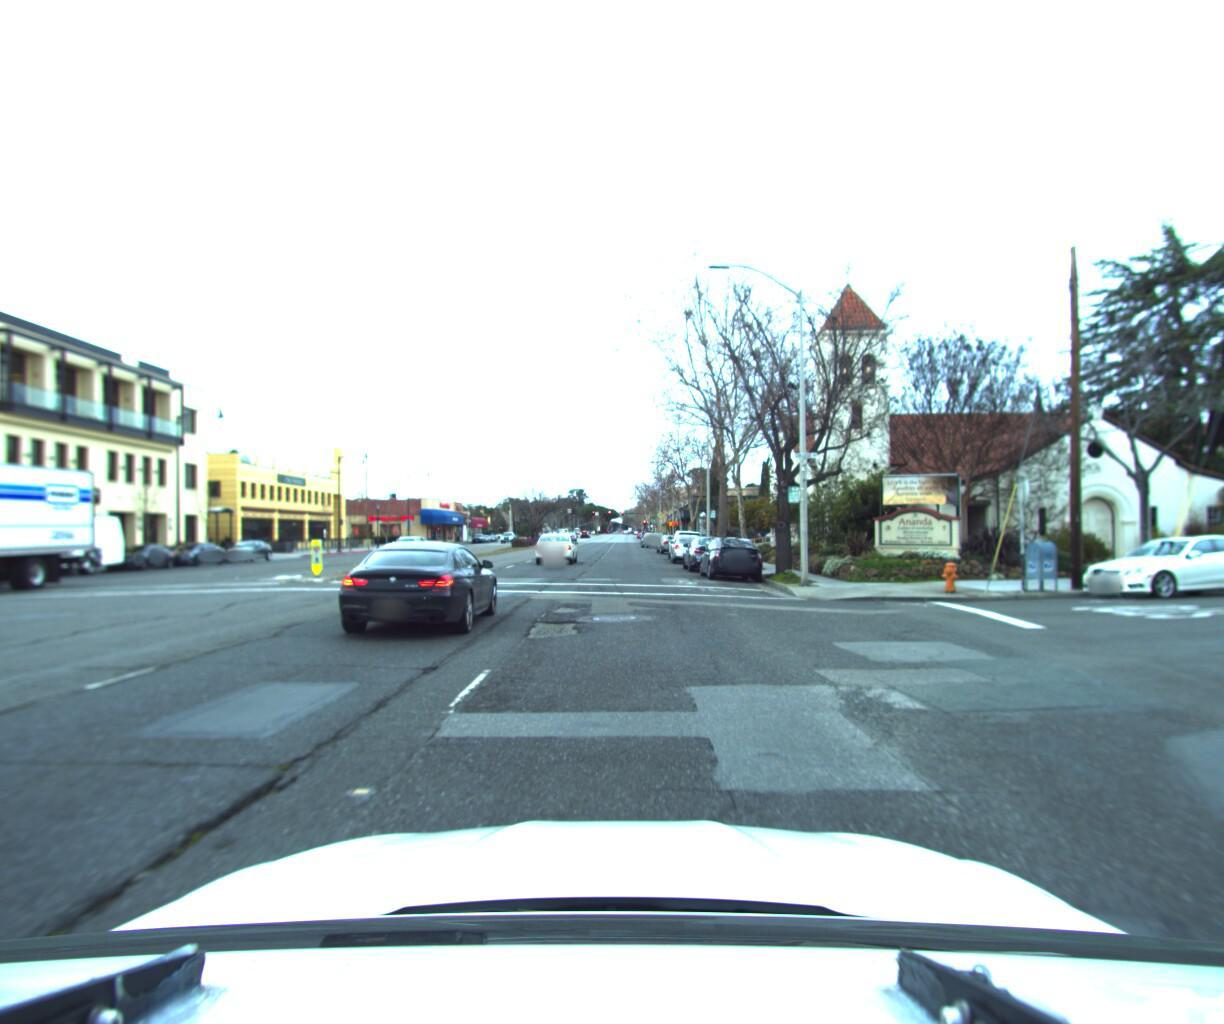car: (321, 531, 506, 641), (1059, 523, 1224, 593), (696, 531, 764, 578), (102, 541, 186, 573), (679, 529, 738, 570), (159, 539, 235, 566), (528, 526, 580, 562), (221, 537, 279, 562), (665, 525, 709, 557), (669, 529, 709, 560), (385, 533, 427, 555), (655, 530, 688, 551), (637, 528, 662, 544)
other_vehicle: (0, 507, 136, 580)
truck: (0, 434, 118, 621)
